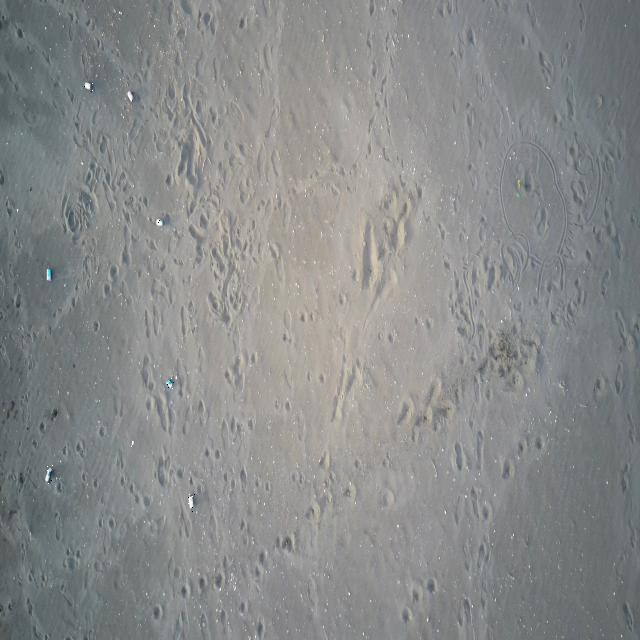tin-and-aluminum-cans: (46, 465, 54, 484), (187, 493, 195, 512), (127, 90, 135, 104), (83, 82, 93, 92), (166, 378, 174, 389), (46, 269, 52, 283), (155, 218, 164, 227)
